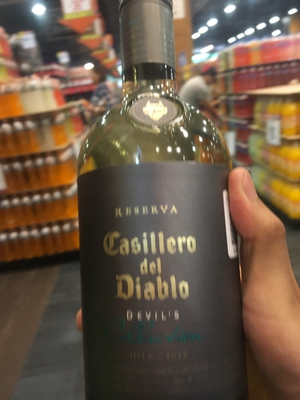casillero del diablo devils collection verde: (69, 13, 247, 392)
